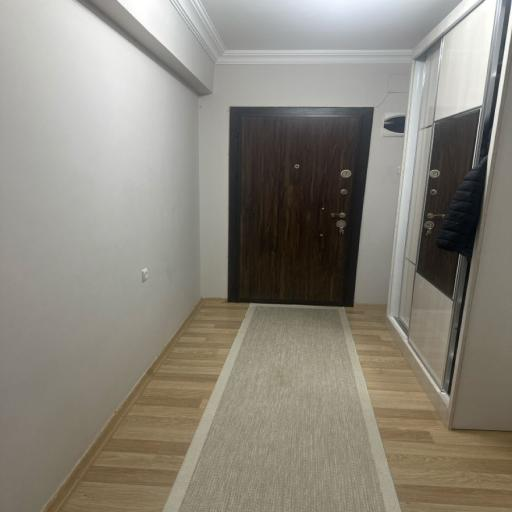bus: (388, 0, 512, 429)
car: (0, 0, 512, 512)
child: (229, 108, 373, 305)
